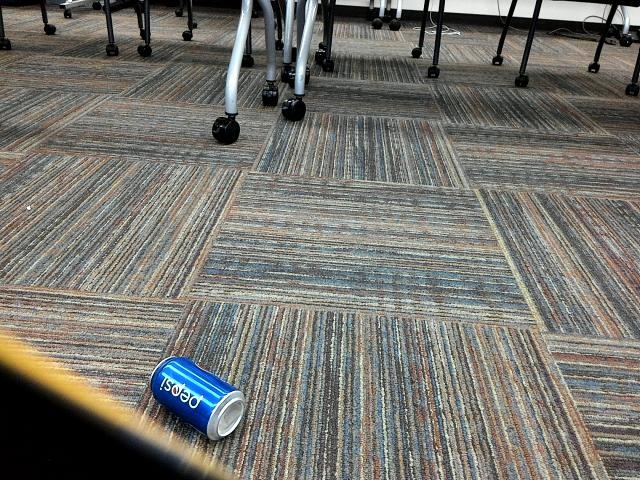can: (136, 337, 262, 446)
